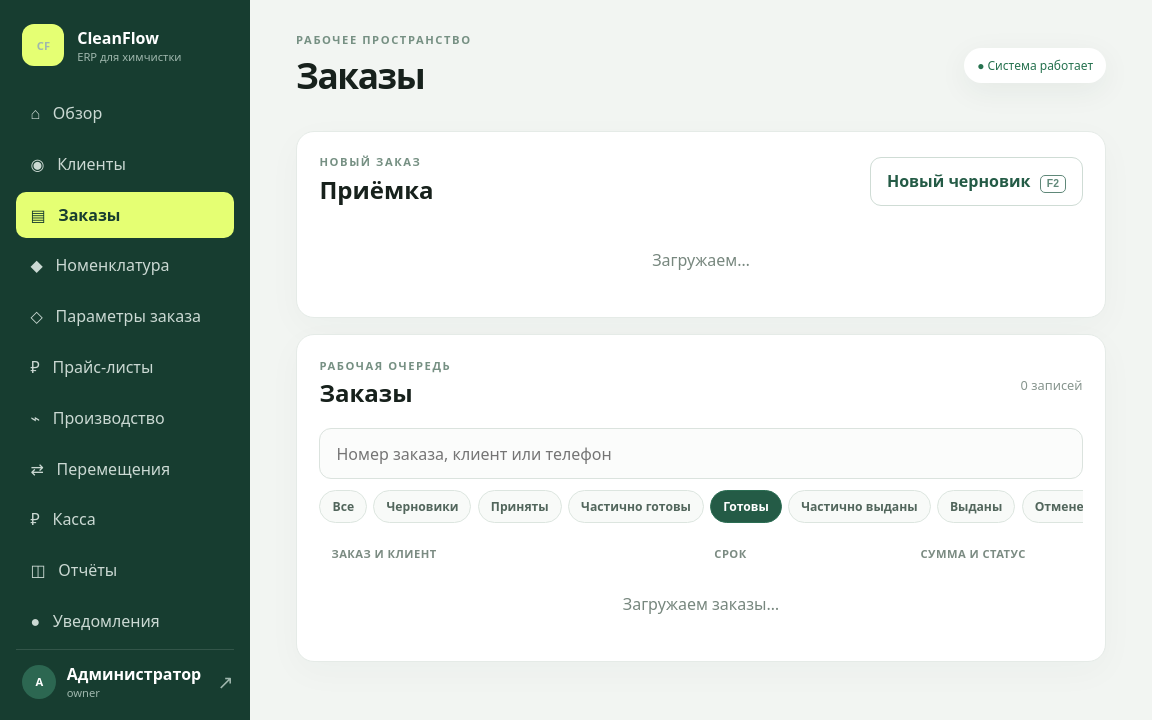
Scenario: Workspace routing › opens an order from a direct URL and navigates between sections
Expected: the heading "Заказы" below "Рабочее пространство" is shown, [296, 51, 424, 99]
Click the button "◉ Клиенты".
click(125, 164)  # box [16, 141, 234, 187]
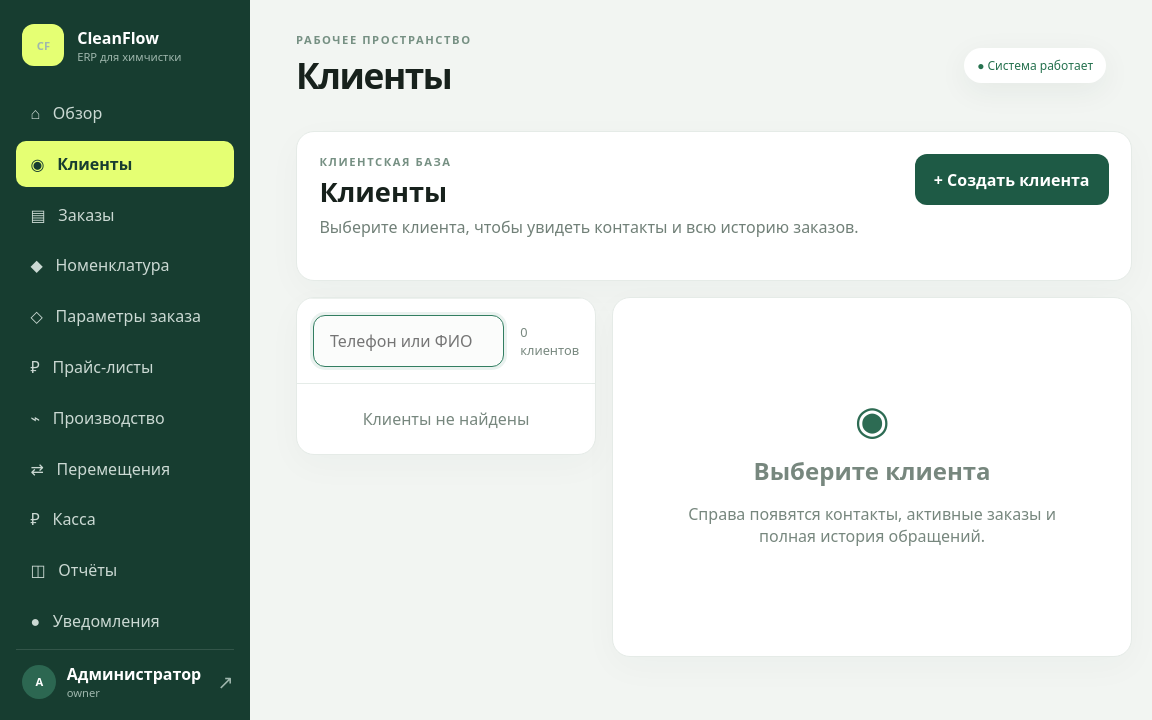
Expected: the heading "Клиенты" below "Рабочее пространство" is shown, [296, 51, 472, 99]
